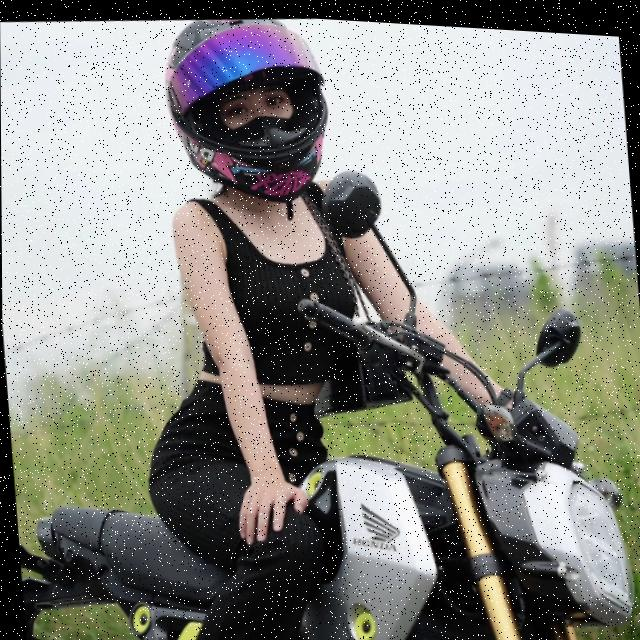helmet: (153, 7, 341, 215)
